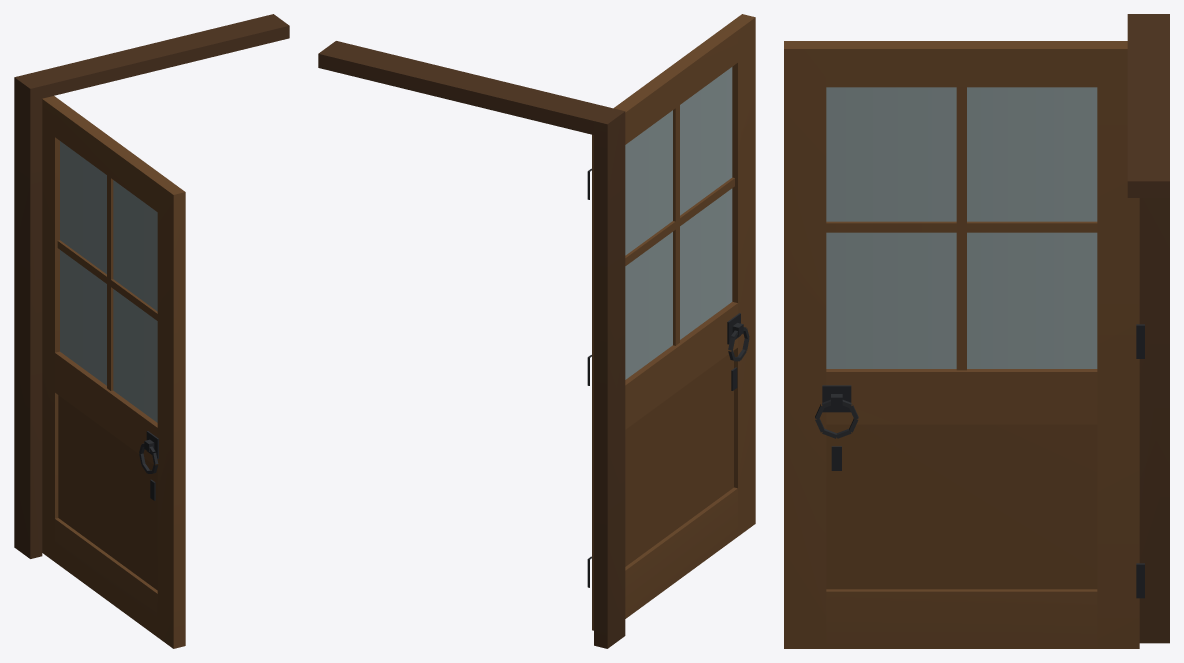
The model's file is door.oak_slim_open_pair.glazed.glb.
3 renders of one model, left to right at view 1: azimuth 30°, elevation 25°; view 2: azimuth 150°, elevation 25°; view 3: azimuth 270°, elevation 25°, orthographic. The views are drawn at different scales.
Visible parts, largest first — view 1: door_oak_slim_open_pair_glazed; view 2: door_oak_slim_open_pair_glazed; view 3: door_oak_slim_open_pair_glazed.
Boxes of the visible parts, x1,y1,x2,y2 form: door_oak_slim_open_pair_glazed: (14,14,289,648); door_oak_slim_open_pair_glazed: (318,14,755,648); door_oak_slim_open_pair_glazed: (784,14,1169,648).
Size of what is drawn, in the model's own units: 1.5 by 2.6 by 1.46.
